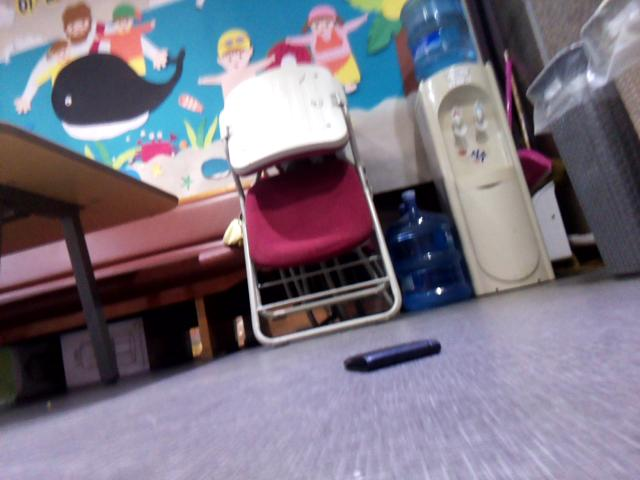wallet: (341, 333, 447, 373)
